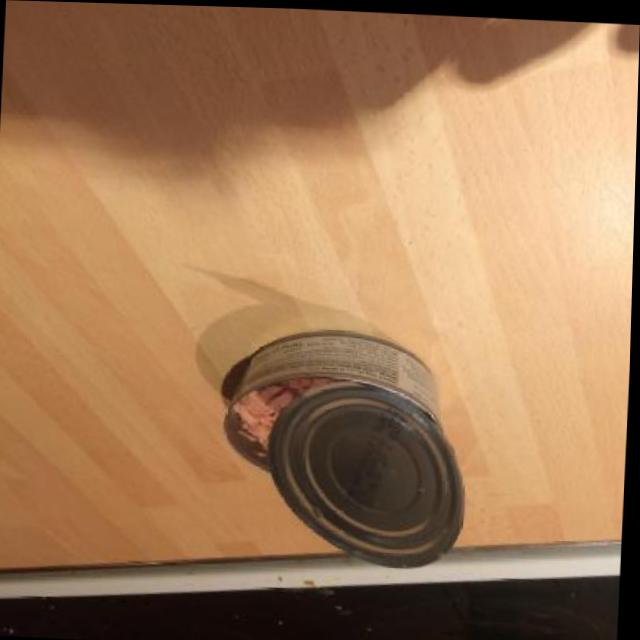metal: (216, 325, 473, 571)
